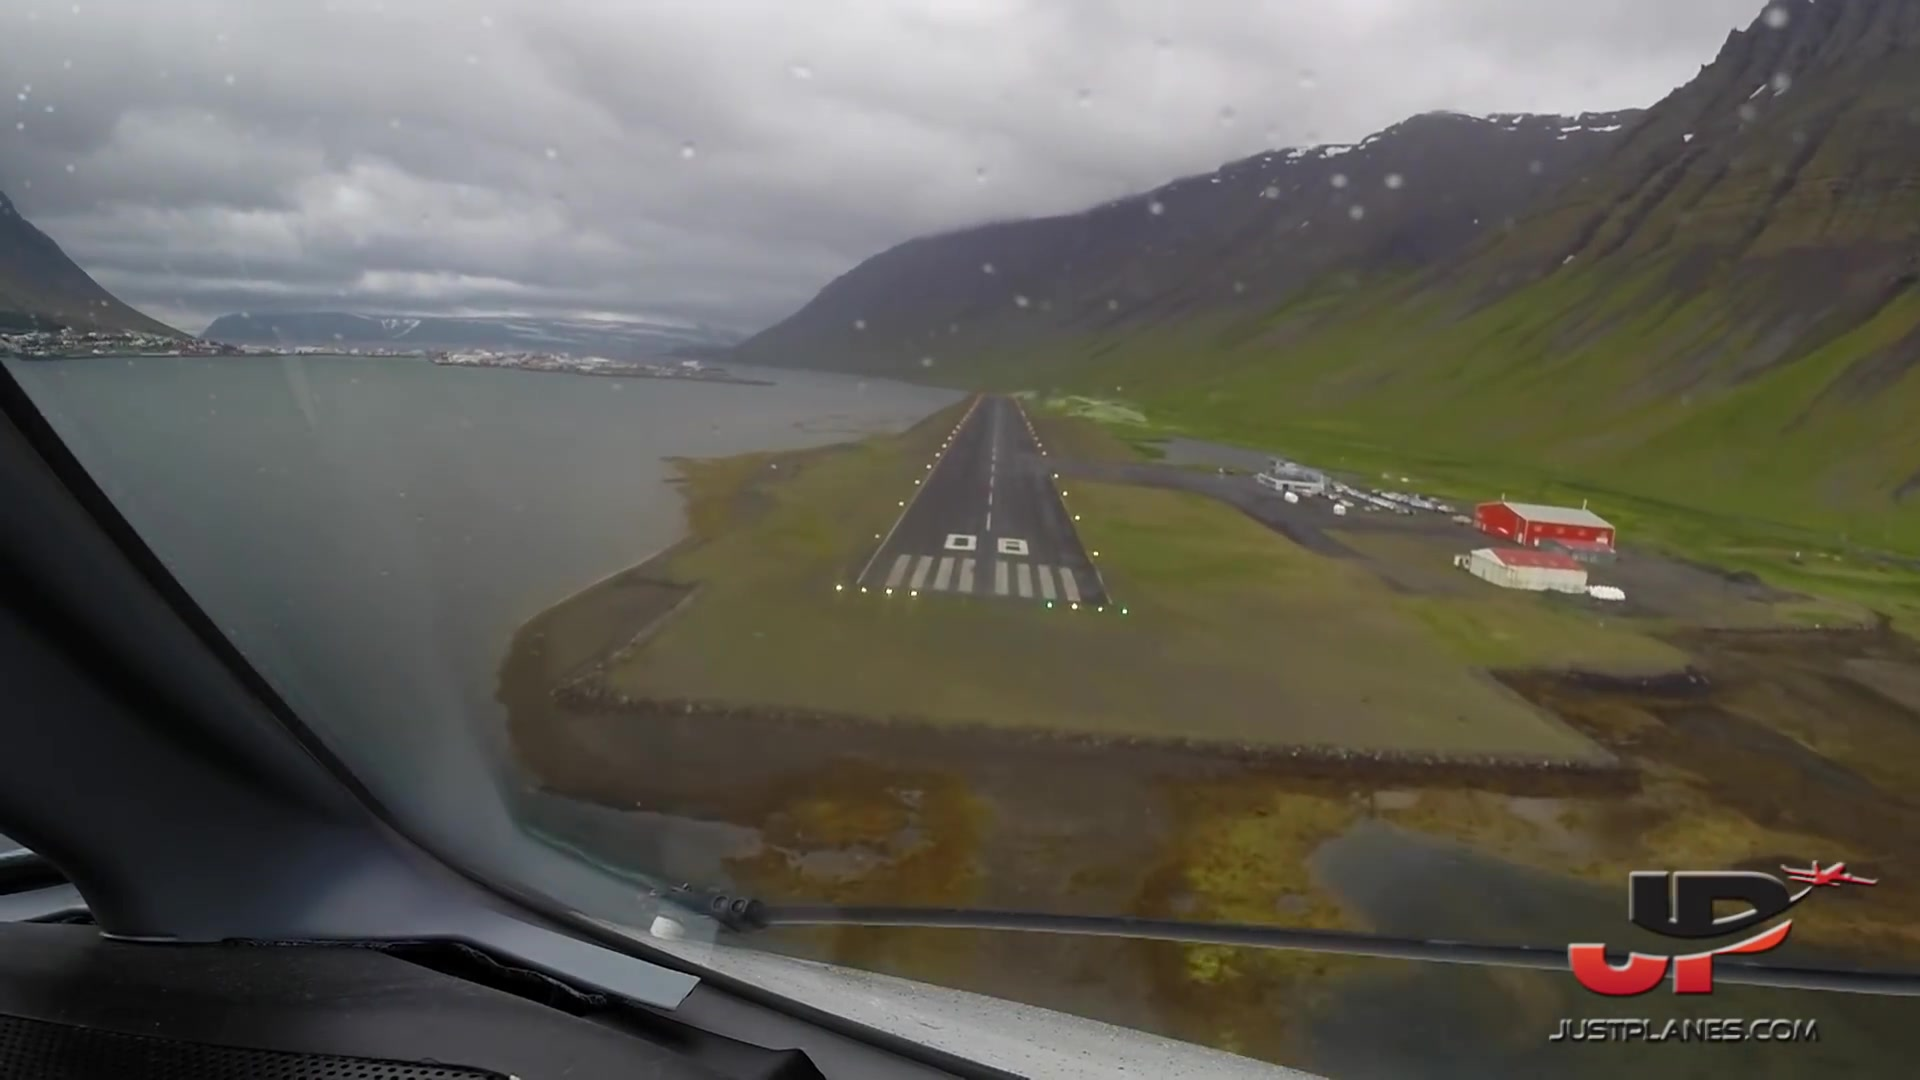entrance: (884, 555, 1080, 603)
runway: (855, 393, 1127, 615)
